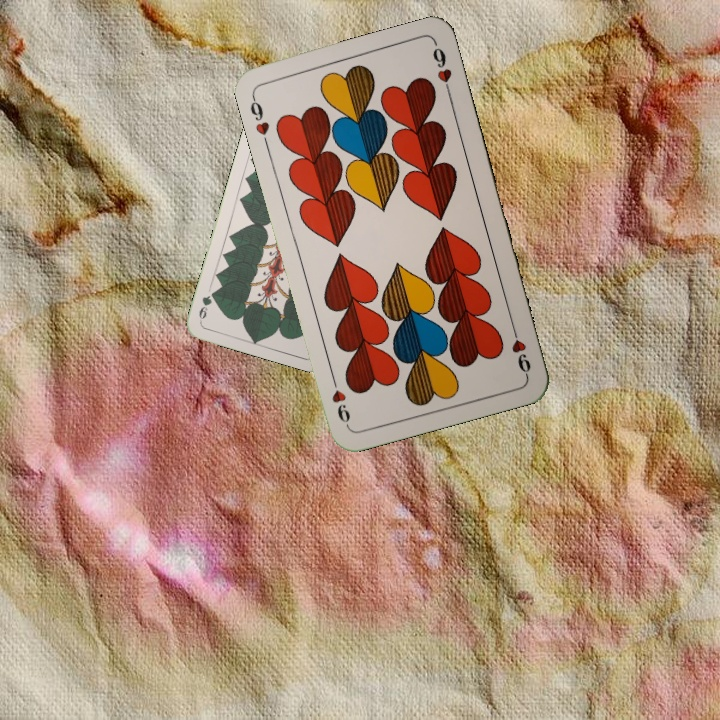H9: (507, 320, 534, 378), (246, 91, 272, 149)
